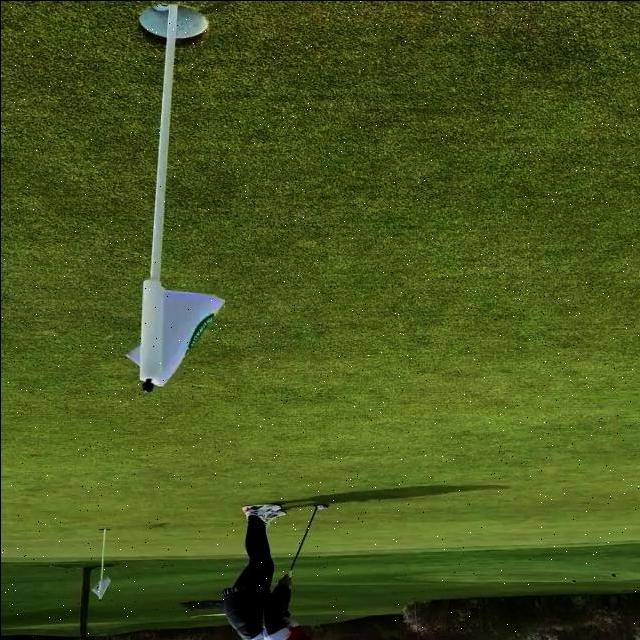golf ball: (316, 504, 322, 509)
golf club-handle: (284, 504, 327, 580)
golf club-head: (313, 503, 327, 507)
